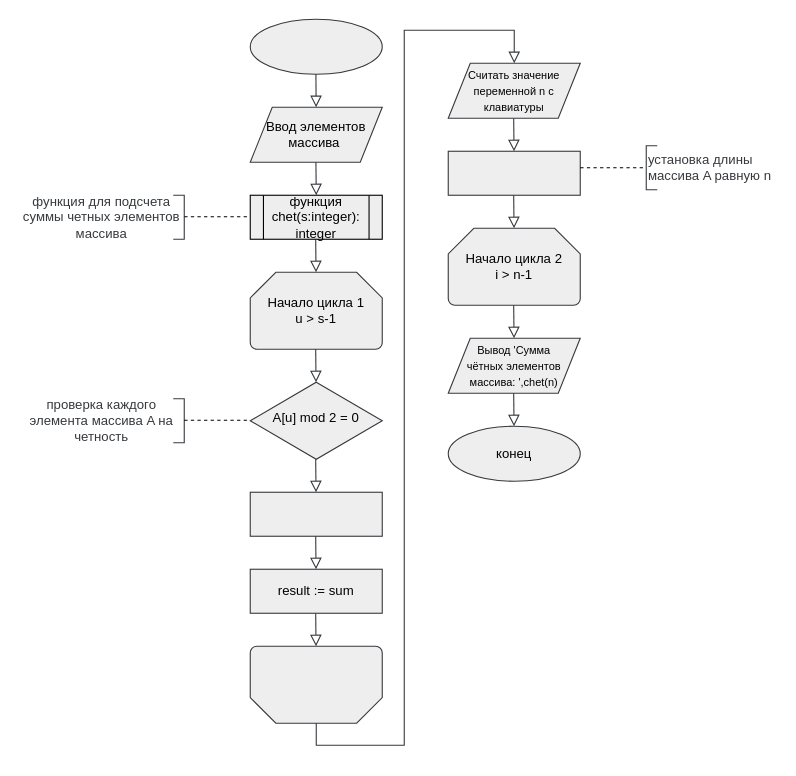
The diagram is 796 pixels wide and 776 high, and some of its shapes have lost their labels. Each missing label, with the centre of its shape:
"setLength(A,n)" goes at pixel 513 172.
"sum := sum + A[u]" goes at pixel 315 513.
"Конец цикла 1" goes at pixel 315 684.
"начало" goes at pixel 315 46.
